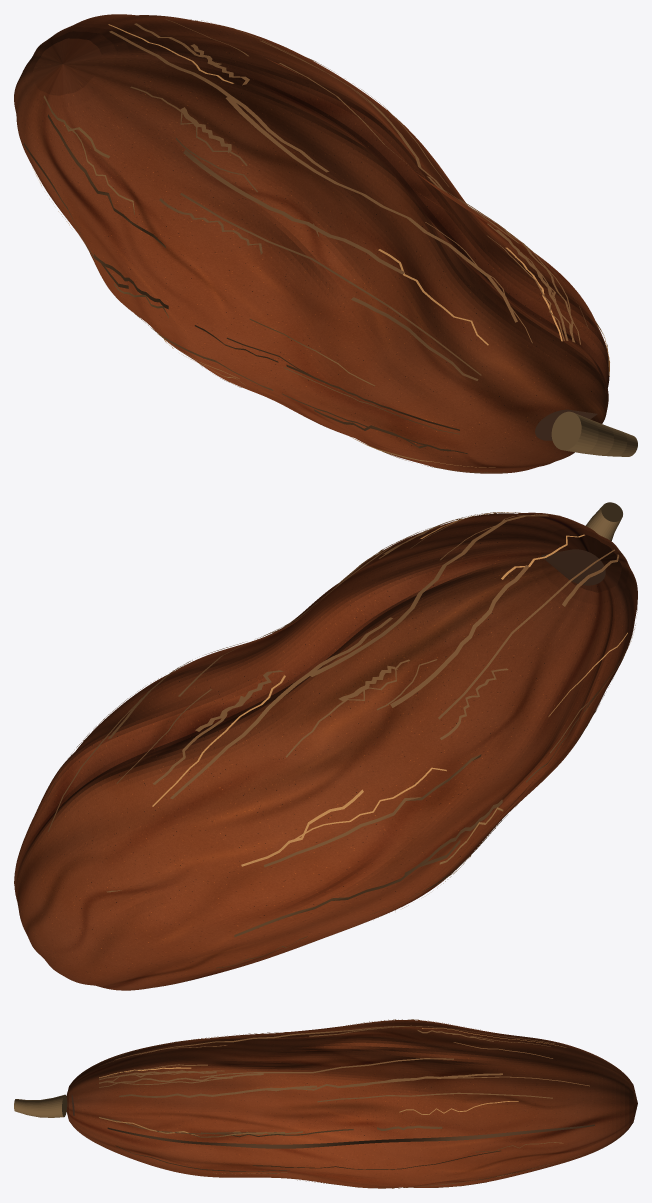
File: single_edible_date_fruit.glb
3 views of the same model, one above another, from view 1: azimuth 30°, elevation 25°; view 2: azimuth 150°, elevation 25°; view 3: azimuth 270°, elevation 25° (orthographic). The views are drawn at different scales.
Visible parts, largest first — view 1: single edible date fruit body - textured wrinkled skin, irregular darker wrinkle ridges on date skin, small dry stem nub, subtle amber highlight wrinkle ridges; view 2: single edible date fruit body - textured wrinkled skin, irregular darker wrinkle ridges on date skin, subtle amber highlight wrinkle ridges, dark oval stem scar at fruit tip, small dry stem nub; view 3: single edible date fruit body - textured wrinkled skin, irregular darker wrinkle ridges on date skin, visible darker longitudinal seam groove, subtle amber highlight wrinkle ridges, small dry stem nub.
Boxes of the visible parts, x1,y1,x2,y2 form: single edible date fruit body - textured wrinkled skin: (14,14,609,473); irregular darker wrinkle ridges on date skin: (23,19,608,472); small dry stem nub: (551,411,637,456); subtle amber highlight wrinkle ridges: (35,24,609,467); single edible date fruit body - textured wrinkled skin: (14,512,637,990); irregular darker wrinkle ridges on date skin: (45,512,637,937); subtle amber highlight wrinkle ridges: (61,512,637,968); dark oval stem scar at fruit tip: (541,549,605,585); small dry stem nub: (585,502,622,540); single edible date fruit body - textured wrinkled skin: (66,1020,637,1188); irregular darker wrinkle ridges on date skin: (99,1019,589,1188); visible darker longitudinal seam groove: (107,1124,594,1148); subtle amber highlight wrinkle ridges: (99,1028,580,1176); small dry stem nub: (14,1094,67,1117).
Size of the model in its own units: 1.36 by 1.07 by 4.14.
6 materials, 1 textured.
